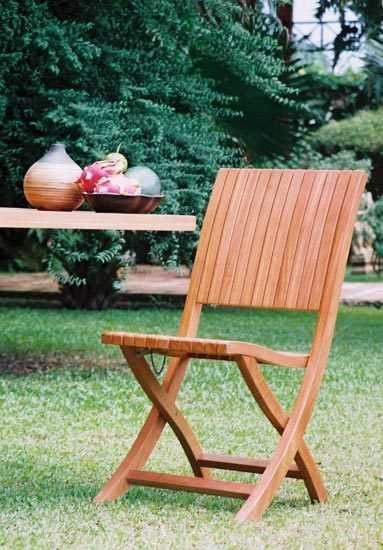obstacle: (95, 169, 365, 521)
